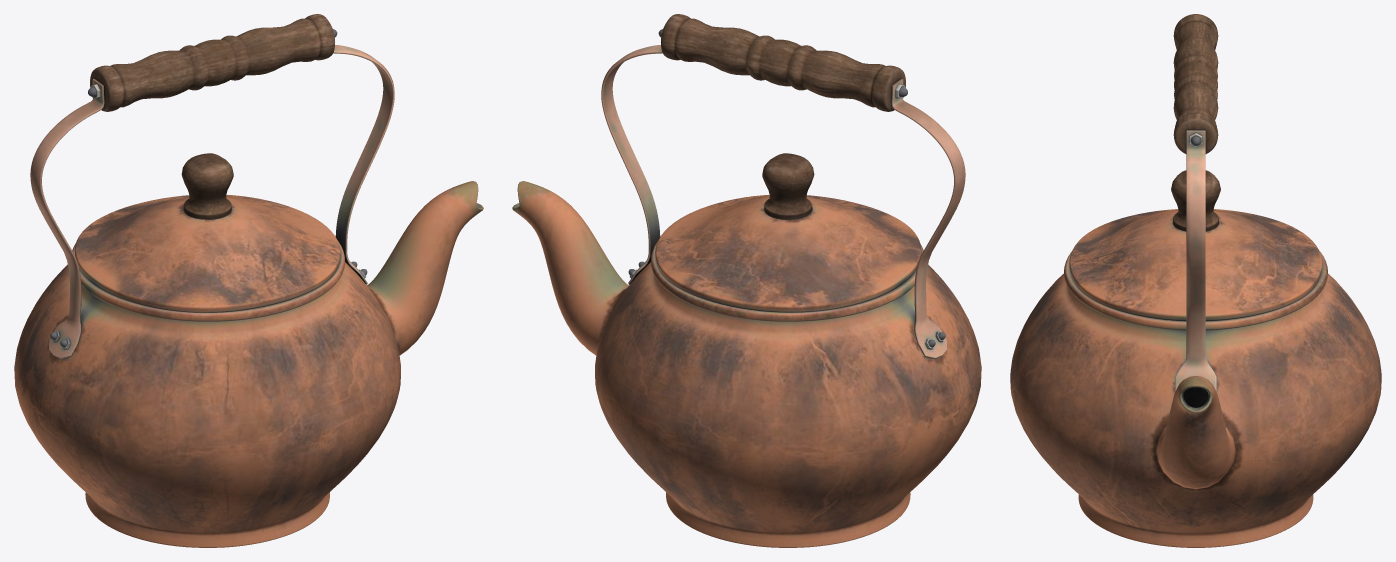
3 renders of one model, left to right at view 1: azimuth 30°, elevation 25°; view 2: azimuth 150°, elevation 25°; view 3: azimuth 270°, elevation 25°, orthographic. The views are drawn at different scales.
Parts seen in each view (by area): view 1: pot; view 2: pot; view 3: pot.
Boxes of the visible parts, bbox=[...] form: pot: bbox=[14, 14, 483, 547]; pot: bbox=[512, 14, 981, 547]; pot: bbox=[1010, 14, 1381, 547].
Size of the model in its own units: 0.1827 by 0.1362 by 0.1763.
Materials: 1 (1 with a texture image).
